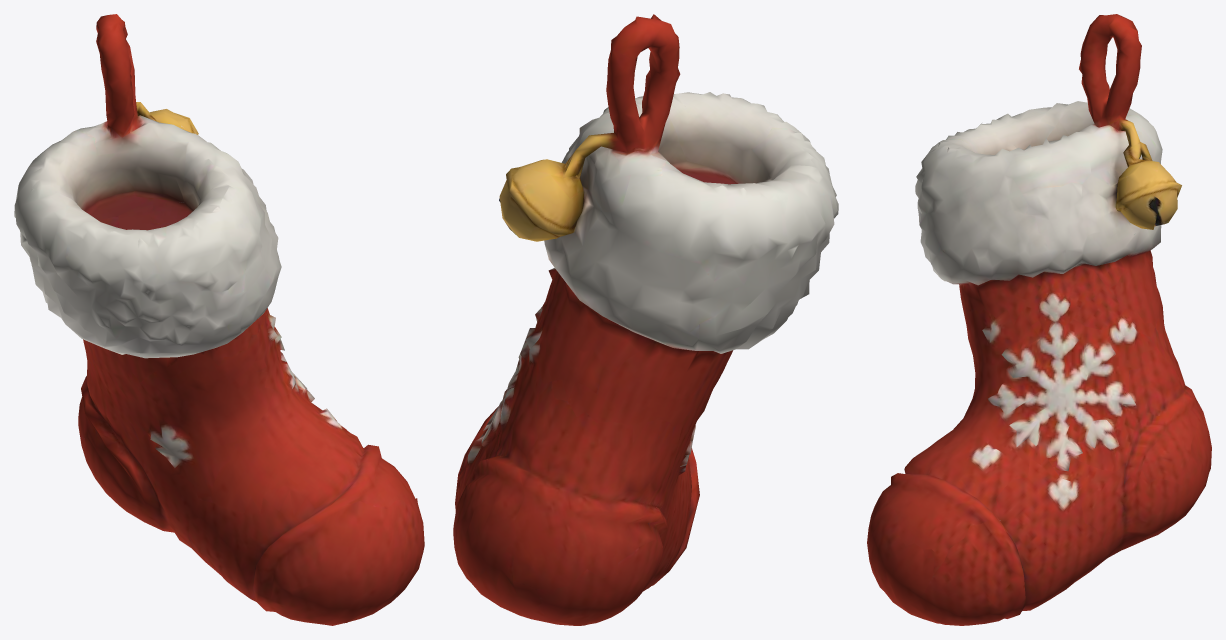
Rendered from orn_sock.glb.
3 views of the same model, side by side, from view 1: azimuth 30°, elevation 25°; view 2: azimuth 150°, elevation 25°; view 3: azimuth 270°, elevation 25° (orthographic). The views are drawn at different scales.
Parts seen in each view (by area): view 1: tripo_node_cd5742a1-fbc7-46f8-bd97-dafe78a32802; view 2: tripo_node_cd5742a1-fbc7-46f8-bd97-dafe78a32802; view 3: tripo_node_cd5742a1-fbc7-46f8-bd97-dafe78a32802.
Boxes of the visible parts, left/top/right/bottom form: tripo_node_cd5742a1-fbc7-46f8-bd97-dafe78a32802: left=14, top=14, right=424, bottom=625; tripo_node_cd5742a1-fbc7-46f8-bd97-dafe78a32802: left=453, top=14, right=838, bottom=625; tripo_node_cd5742a1-fbc7-46f8-bd97-dafe78a32802: left=867, top=14, right=1211, bottom=625.
Size of the model in its own units: 0.6116 by 1 by 0.5813.
Materials: 1 (1 with a texture image).
